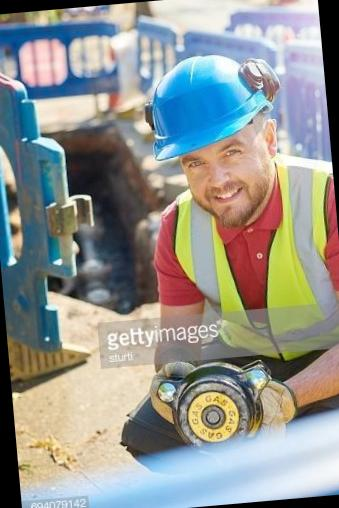helmet: (132, 46, 292, 166)
person: (121, 41, 339, 443)
